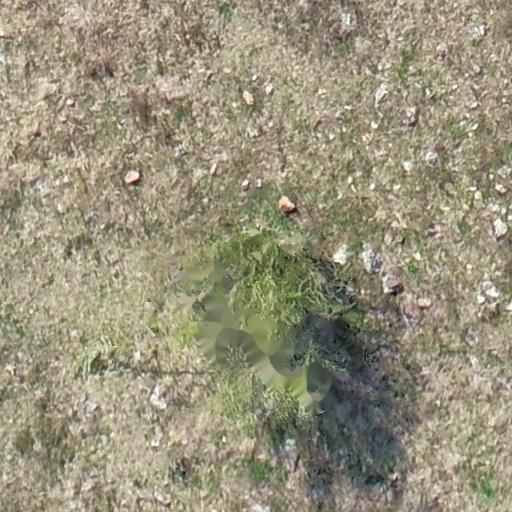stone: (382, 273, 404, 295), (480, 280, 501, 302), (149, 386, 168, 410), (361, 248, 379, 272), (492, 216, 510, 238), (373, 83, 390, 106), (404, 105, 420, 126), (122, 170, 144, 184), (278, 196, 296, 212), (242, 90, 255, 106), (425, 150, 438, 164), (208, 162, 220, 177), (470, 64, 482, 74), (265, 84, 274, 95)
